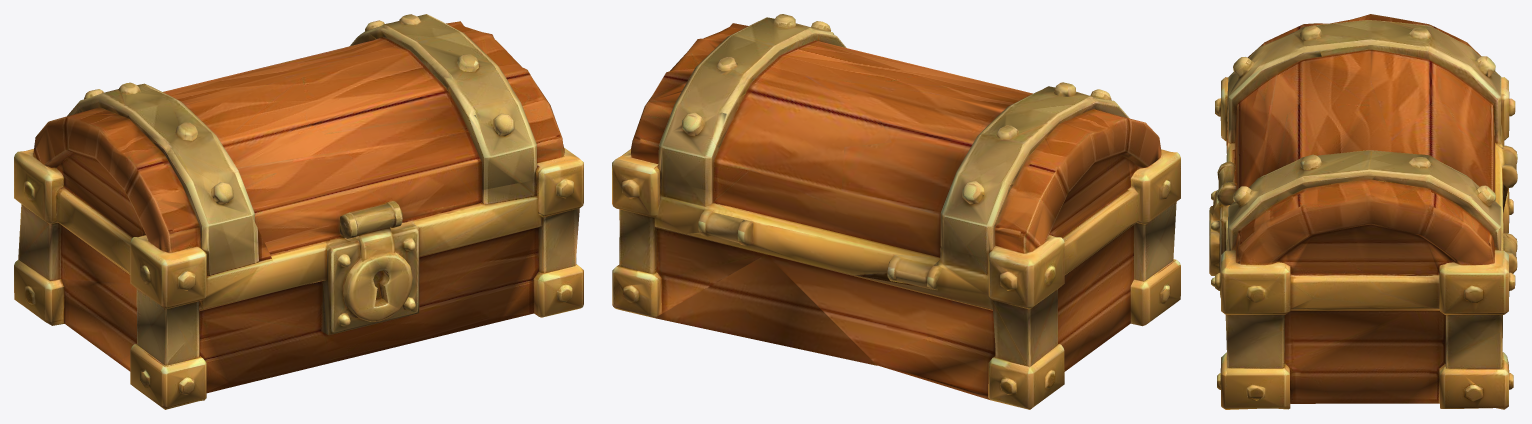
Rendered from chest-stars.glb.
The picture shows the model from 3 angles, left to right: view 1: azimuth 30°, elevation 25°; view 2: azimuth 150°, elevation 25°; view 3: azimuth 270°, elevation 25°; orthographic projection. The views are drawn at different scales.
Parts seen in each view (by area): view 1: Chest_Lid, Chest_Body; view 2: Chest_Lid, Chest_Body; view 3: Chest_Lid, Chest_Body.
Boxes of the visible parts, x1,y1,x2,y2 form: Chest_Lid: (14, 14, 583, 272); Chest_Body: (14, 164, 583, 409); Chest_Lid: (612, 14, 1180, 272); Chest_Body: (612, 164, 1180, 409); Chest_Lid: (1218, 14, 1509, 279); Chest_Body: (1209, 92, 1517, 409).
Size of the model in its own units: 1.9 by 1.01 by 1.26.
1 material, 1 textured.
